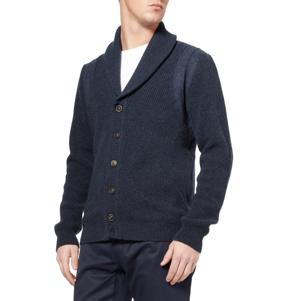C_cardigan sweater: (58, 25, 232, 252)
